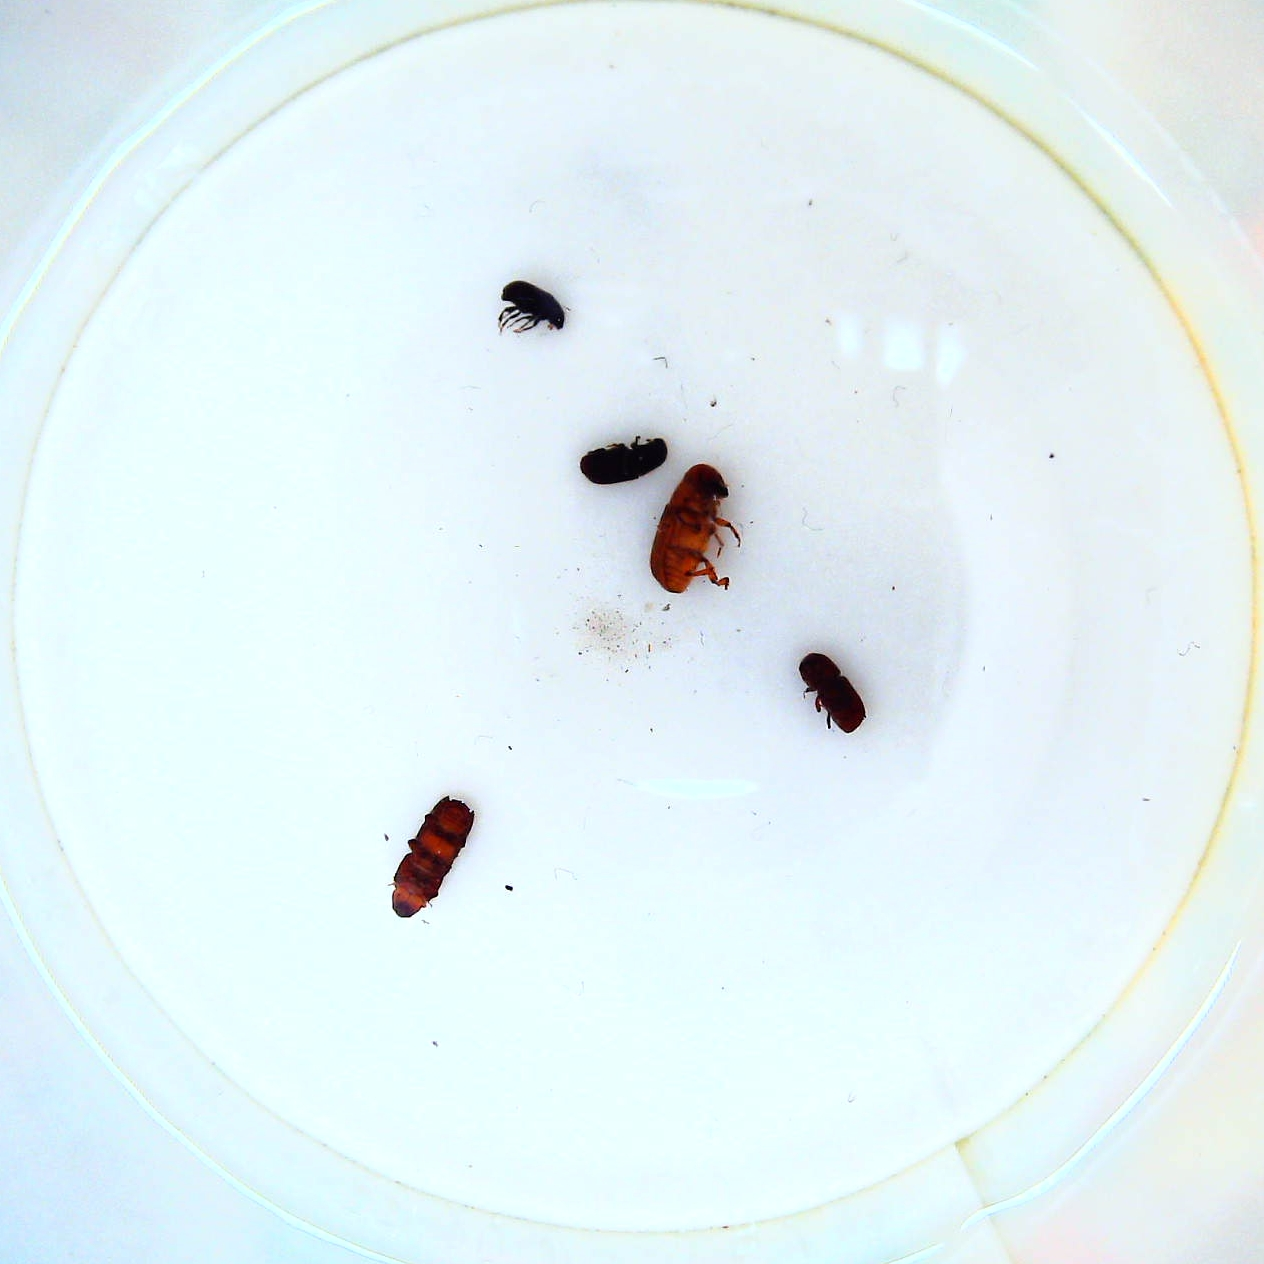Boerner: (388, 788, 482, 925)
Leconte: (647, 457, 752, 601)
armandi: (576, 435, 679, 486)
coleoptera: (486, 274, 574, 340)
linnaeus: (796, 652, 870, 737)
